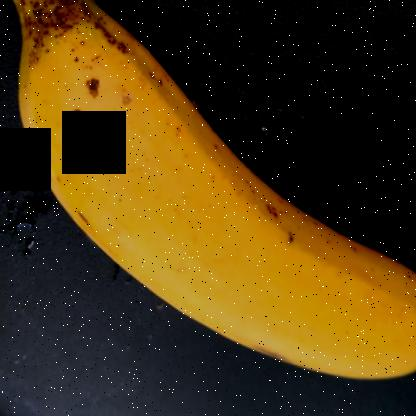freshripe: (11, 13, 415, 394)
